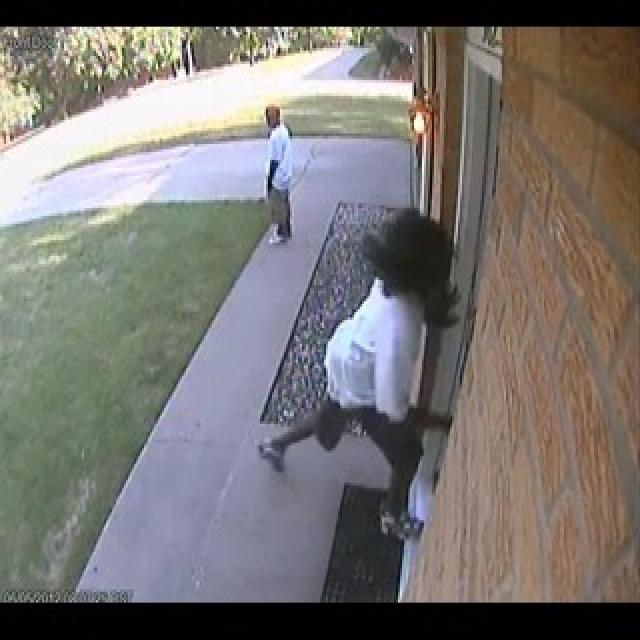burglary: (324, 264, 469, 532)
